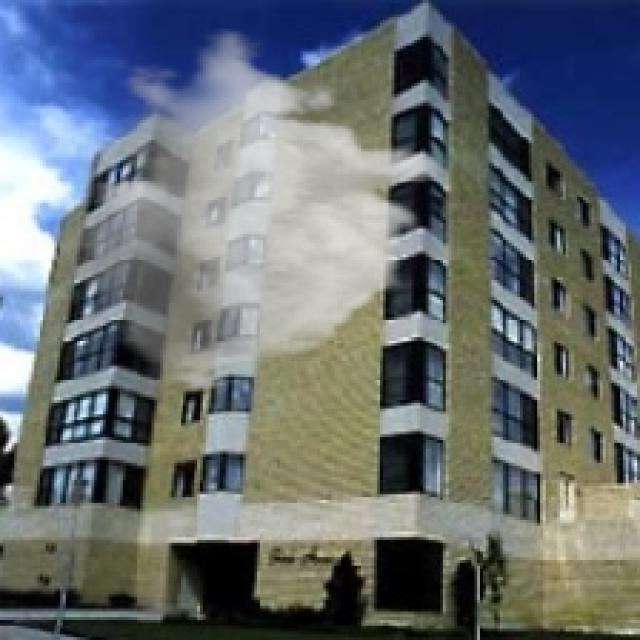smoke: (51, 29, 448, 397)
